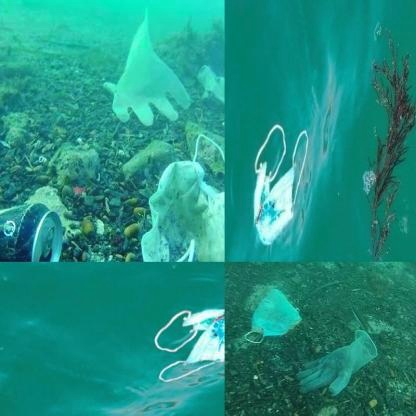Mask: (129, 286, 224, 415), (136, 135, 224, 261), (248, 124, 310, 247), (244, 290, 302, 349)
glove: (94, 7, 187, 132), (296, 328, 378, 402), (196, 64, 224, 120)
